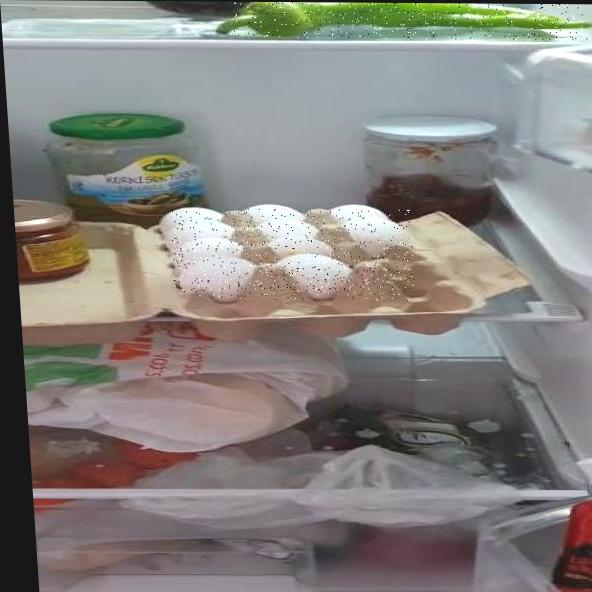eggs: (169, 208, 416, 301)
green chilies: (230, 2, 587, 39)
